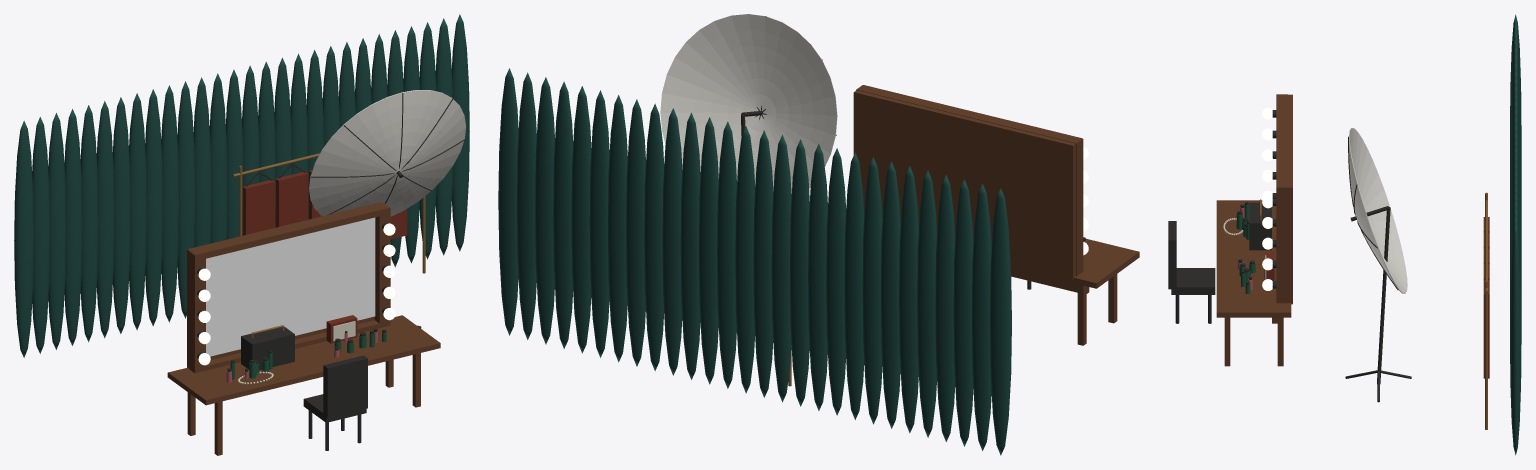
3 views of the same model, side by side, from view 1: azimuth 30°, elevation 25°; view 2: azimuth 150°, elevation 25°; view 3: azimuth 270°, elevation 25° (orthographic). The views are drawn at different scales.
Visible parts, largest first — view 1: MIRROR_surface, UMBRELLA_finite_canopy_proxy, TABLE_top, CURTAIN_fold_proxy_0, CURTAIN_fold_proxy_8, CURTAIN_fold_proxy_1, CURTAIN_fold_proxy_2, CURTAIN_fold_proxy_7, CURTAIN_fold_proxy_9, CURTAIN_fold_proxy_6, CURTAIN_fold_proxy_3, CURTAIN_fold_proxy_5 (+31 smaller); view 2: MIRROR_backboard_inferred, UMBRELLA_finite_canopy_proxy, CURTAIN_fold_proxy_0, CURTAIN_fold_proxy_27, CURTAIN_fold_proxy_26, CURTAIN_fold_proxy_5, CURTAIN_fold_proxy_21, CURTAIN_fold_proxy_25, CURTAIN_fold_proxy_4, CURTAIN_fold_proxy_10, CURTAIN_fold_proxy_15, CURTAIN_fold_proxy_19 (+22 smaller); view 3: TABLE_top, UMBRELLA_finite_canopy_proxy, CURTAIN_fold_proxy_27, MIRROR_frame_1, MIRROR_frame_horizontal_2.31, CHAIR_seat_proxy, MIRROR_backboard_inferred, COSMETIC_case_body, UMBRELLA_stand_inferred, CHAIR_back_proxy, RACK_post_proxy.001, GARMENT_finite_proxy_4.
Boxes of the visible parts, x1,y1,x2,y2 form: MIRROR_surface: [206, 217, 375, 356]; UMBRELLA_finite_canopy_proxy: [309, 90, 466, 216]; TABLE_top: [167, 315, 440, 405]; CURTAIN_fold_proxy_0: [14, 120, 33, 357]; CURTAIN_fold_proxy_8: [145, 89, 162, 326]; CURTAIN_fold_proxy_1: [32, 117, 49, 353]; CURTAIN_fold_proxy_2: [48, 113, 65, 349]; CURTAIN_fold_proxy_7: [129, 93, 146, 330]; CURTAIN_fold_proxy_9: [161, 85, 178, 322]; CURTAIN_fold_proxy_6: [113, 97, 130, 333]; CURTAIN_fold_proxy_3: [64, 109, 81, 345]; CURTAIN_fold_proxy_5: [96, 101, 114, 338]; MIRROR_backboard_inferred: [853, 90, 1075, 279]; UMBRELLA_finite_canopy_proxy: [660, 14, 837, 193]; CURTAIN_fold_proxy_0: [990, 188, 1011, 455]; CURTAIN_fold_proxy_27: [498, 68, 518, 335]; CURTAIN_fold_proxy_26: [517, 72, 536, 339]; CURTAIN_fold_proxy_5: [899, 166, 918, 433]; CURTAIN_fold_proxy_21: [608, 95, 627, 362]; CURTAIN_fold_proxy_25: [535, 77, 554, 344]; CURTAIN_fold_proxy_4: [917, 170, 937, 437]; CURTAIN_fold_proxy_10: [808, 143, 827, 410]; CURTAIN_fold_proxy_15: [717, 121, 736, 388]; CURTAIN_fold_proxy_19: [644, 103, 664, 371]; TABLE_top: [1216, 200, 1291, 317]; UMBRELLA_finite_canopy_proxy: [1349, 128, 1407, 293]; CURTAIN_fold_proxy_27: [1510, 223, 1521, 455]; MIRROR_frame_1: [1276, 187, 1287, 303]; MIRROR_frame_horizontal_2.31: [1276, 94, 1287, 187]; CHAIR_seat_proxy: [1171, 268, 1215, 294]; MIRROR_backboard_inferred: [1288, 94, 1292, 304]; COSMETIC_case_body: [1249, 202, 1271, 250]; UMBRELLA_stand_inferred: [1377, 207, 1390, 384]; CHAIR_back_proxy: [1168, 221, 1176, 289]; RACK_post_proxy.001: [1485, 280, 1487, 429]; GARMENT_finite_proxy_4: [1483, 280, 1489, 378].
Size of the model in its own units: 6.2 by 3.34 by 4.25.
